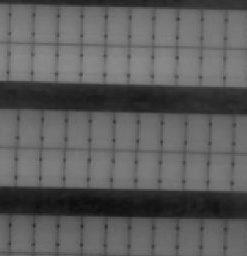solar: (79, 213, 108, 256), (103, 213, 132, 256), (127, 213, 156, 256), (151, 213, 180, 256), (179, 213, 208, 256), (7, 3, 36, 45), (31, 3, 60, 45), (56, 4, 85, 46), (79, 4, 108, 46), (103, 5, 132, 47), (127, 5, 156, 47), (152, 6, 181, 48), (176, 6, 205, 48), (200, 7, 229, 49), (5, 40, 34, 82), (29, 41, 58, 83), (55, 42, 84, 84), (79, 42, 108, 84), (102, 43, 131, 85), (126, 44, 155, 86), (151, 45, 180, 87), (174, 46, 203, 88), (198, 46, 227, 88), (15, 106, 44, 148), (40, 107, 69, 149), (64, 108, 93, 150), (87, 109, 116, 151), (112, 110, 141, 152), (136, 111, 165, 153), (160, 111, 189, 153), (183, 111, 212, 153), (208, 112, 237, 154), (13, 144, 42, 186), (37, 145, 66, 187), (62, 146, 91, 188), (86, 148, 115, 190), (109, 148, 138, 190), (134, 148, 163, 190), (157, 148, 186, 190), (181, 149, 210, 191), (206, 151, 235, 193), (7, 211, 36, 253), (33, 212, 62, 254), (55, 213, 84, 255)
